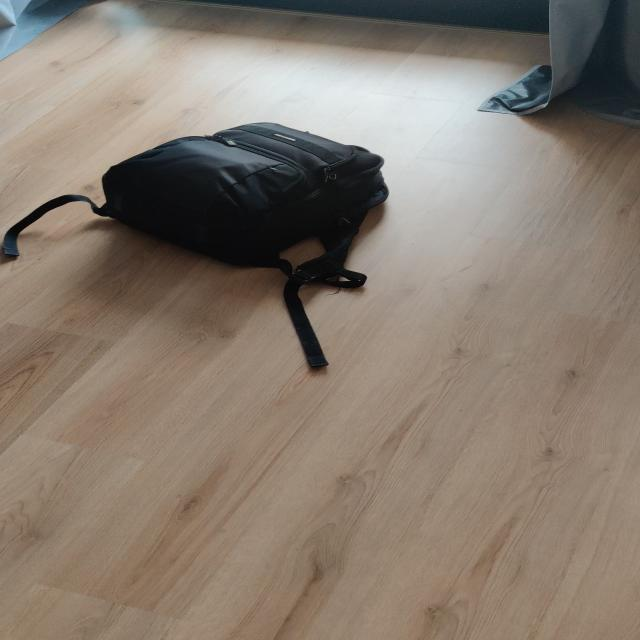backpack: (79, 117, 400, 271)
